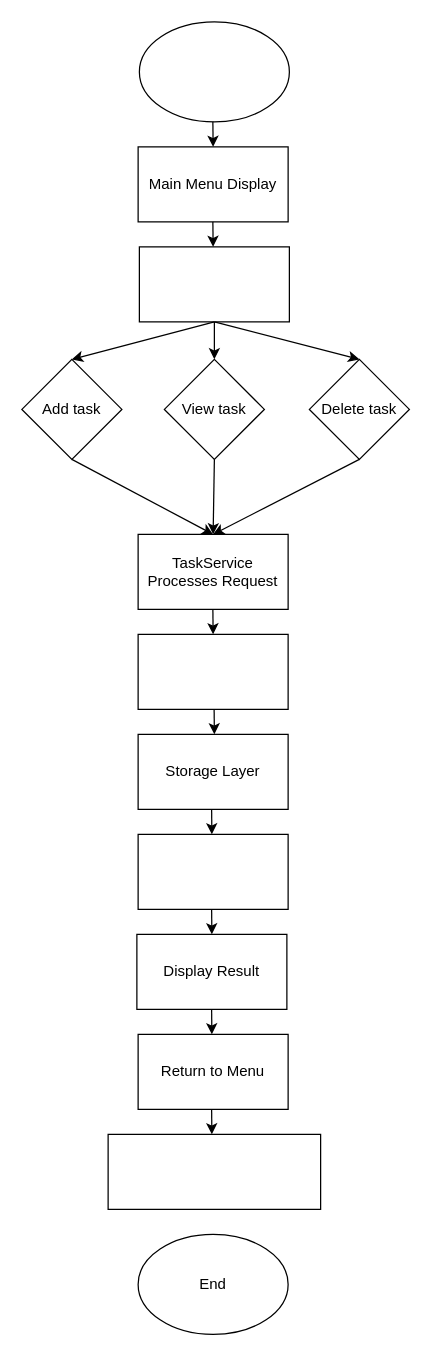
Some shapes in this 431 by 1356 pixel diagram are drawn without their labels. The centre of each missing label's shape, as x and y in pixels:
"Exit → Save Tasks" goes at point 214,1171.
"Save or Load Data" goes at point 212,871.
"Start" goes at point 213,71.
"Task Object Updated / Created" goes at point 212,671.
"User Input Choice" goes at point 213,284.
